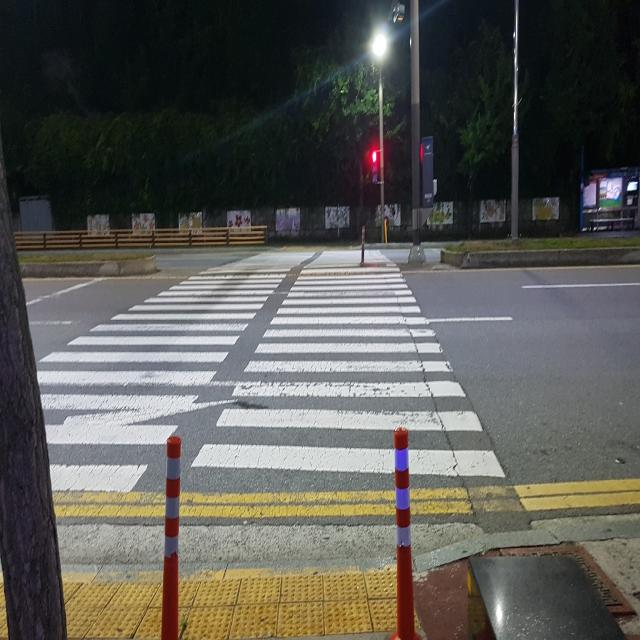빨간불: (372, 149, 378, 182)
횡단보도: (35, 247, 508, 494)
